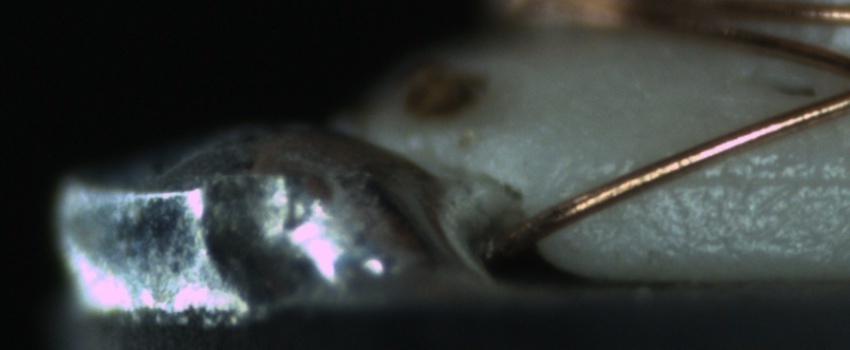DL: (634, 149, 850, 210)
